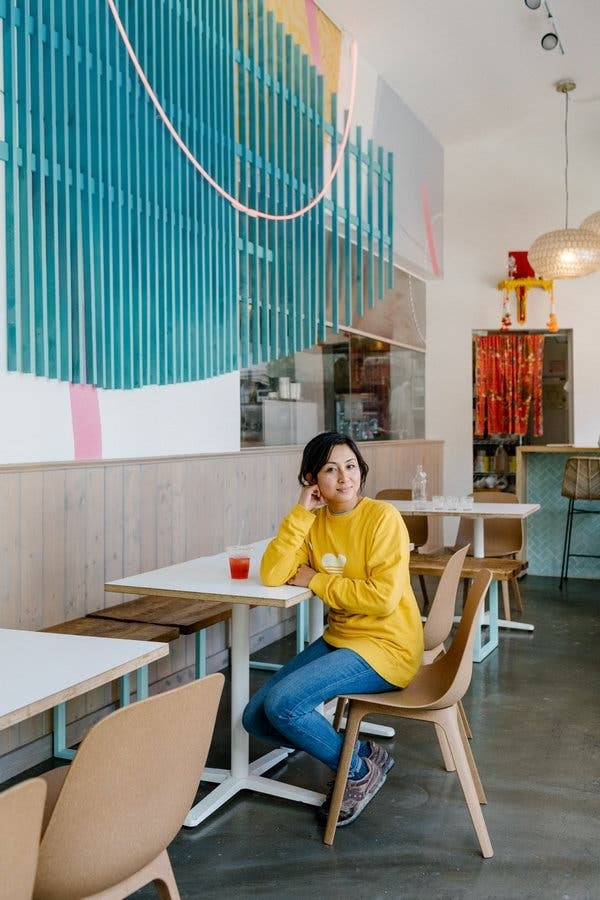face_no_mask: (296, 433, 369, 502)
